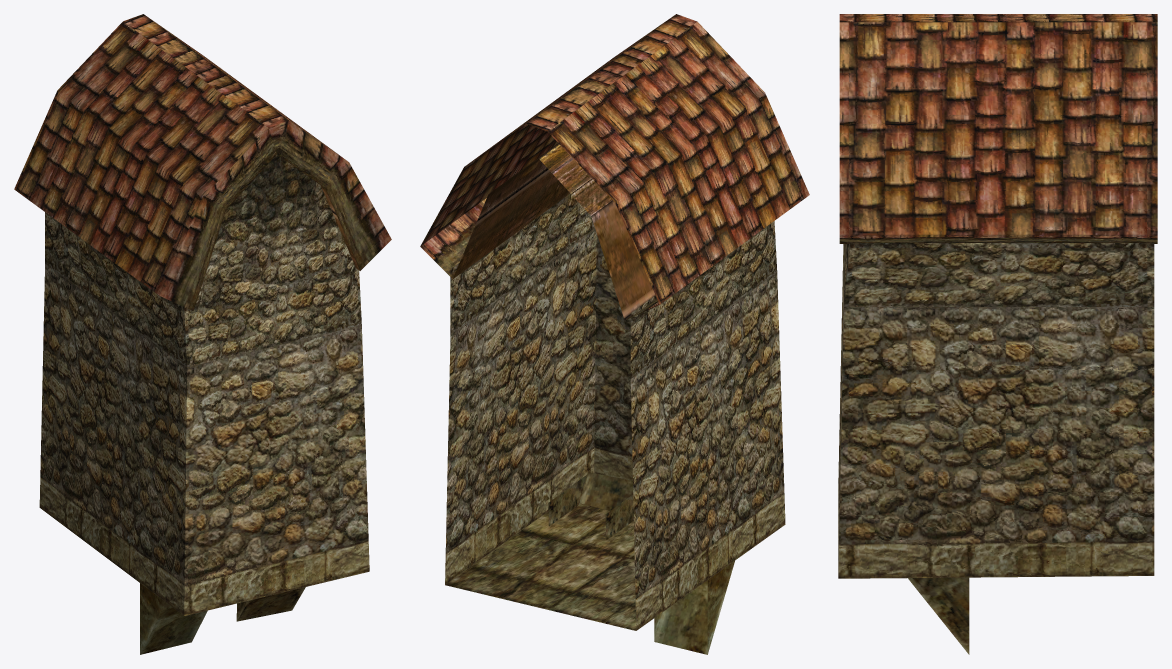
Rendered from hrz05.glb.
3 renders of one model, left to right at view 1: azimuth 30°, elevation 25°; view 2: azimuth 150°, elevation 25°; view 3: azimuth 270°, elevation 25°, orthographic. The views are drawn at different scales.
Parts seen in each view (by area): view 1: hrz05; view 2: hrz05; view 3: hrz05.
Part boxes in pixels (left/top/right/bottom): hrz05: left=14, top=14, right=391, bottom=654; hrz05: left=420, top=14, right=809, bottom=654; hrz05: left=838, top=14, right=1157, bottom=654.
Size of the model in its own units: 3.99 by 9.13 by 4.35.
Materials: 6 (6 with a texture image).
